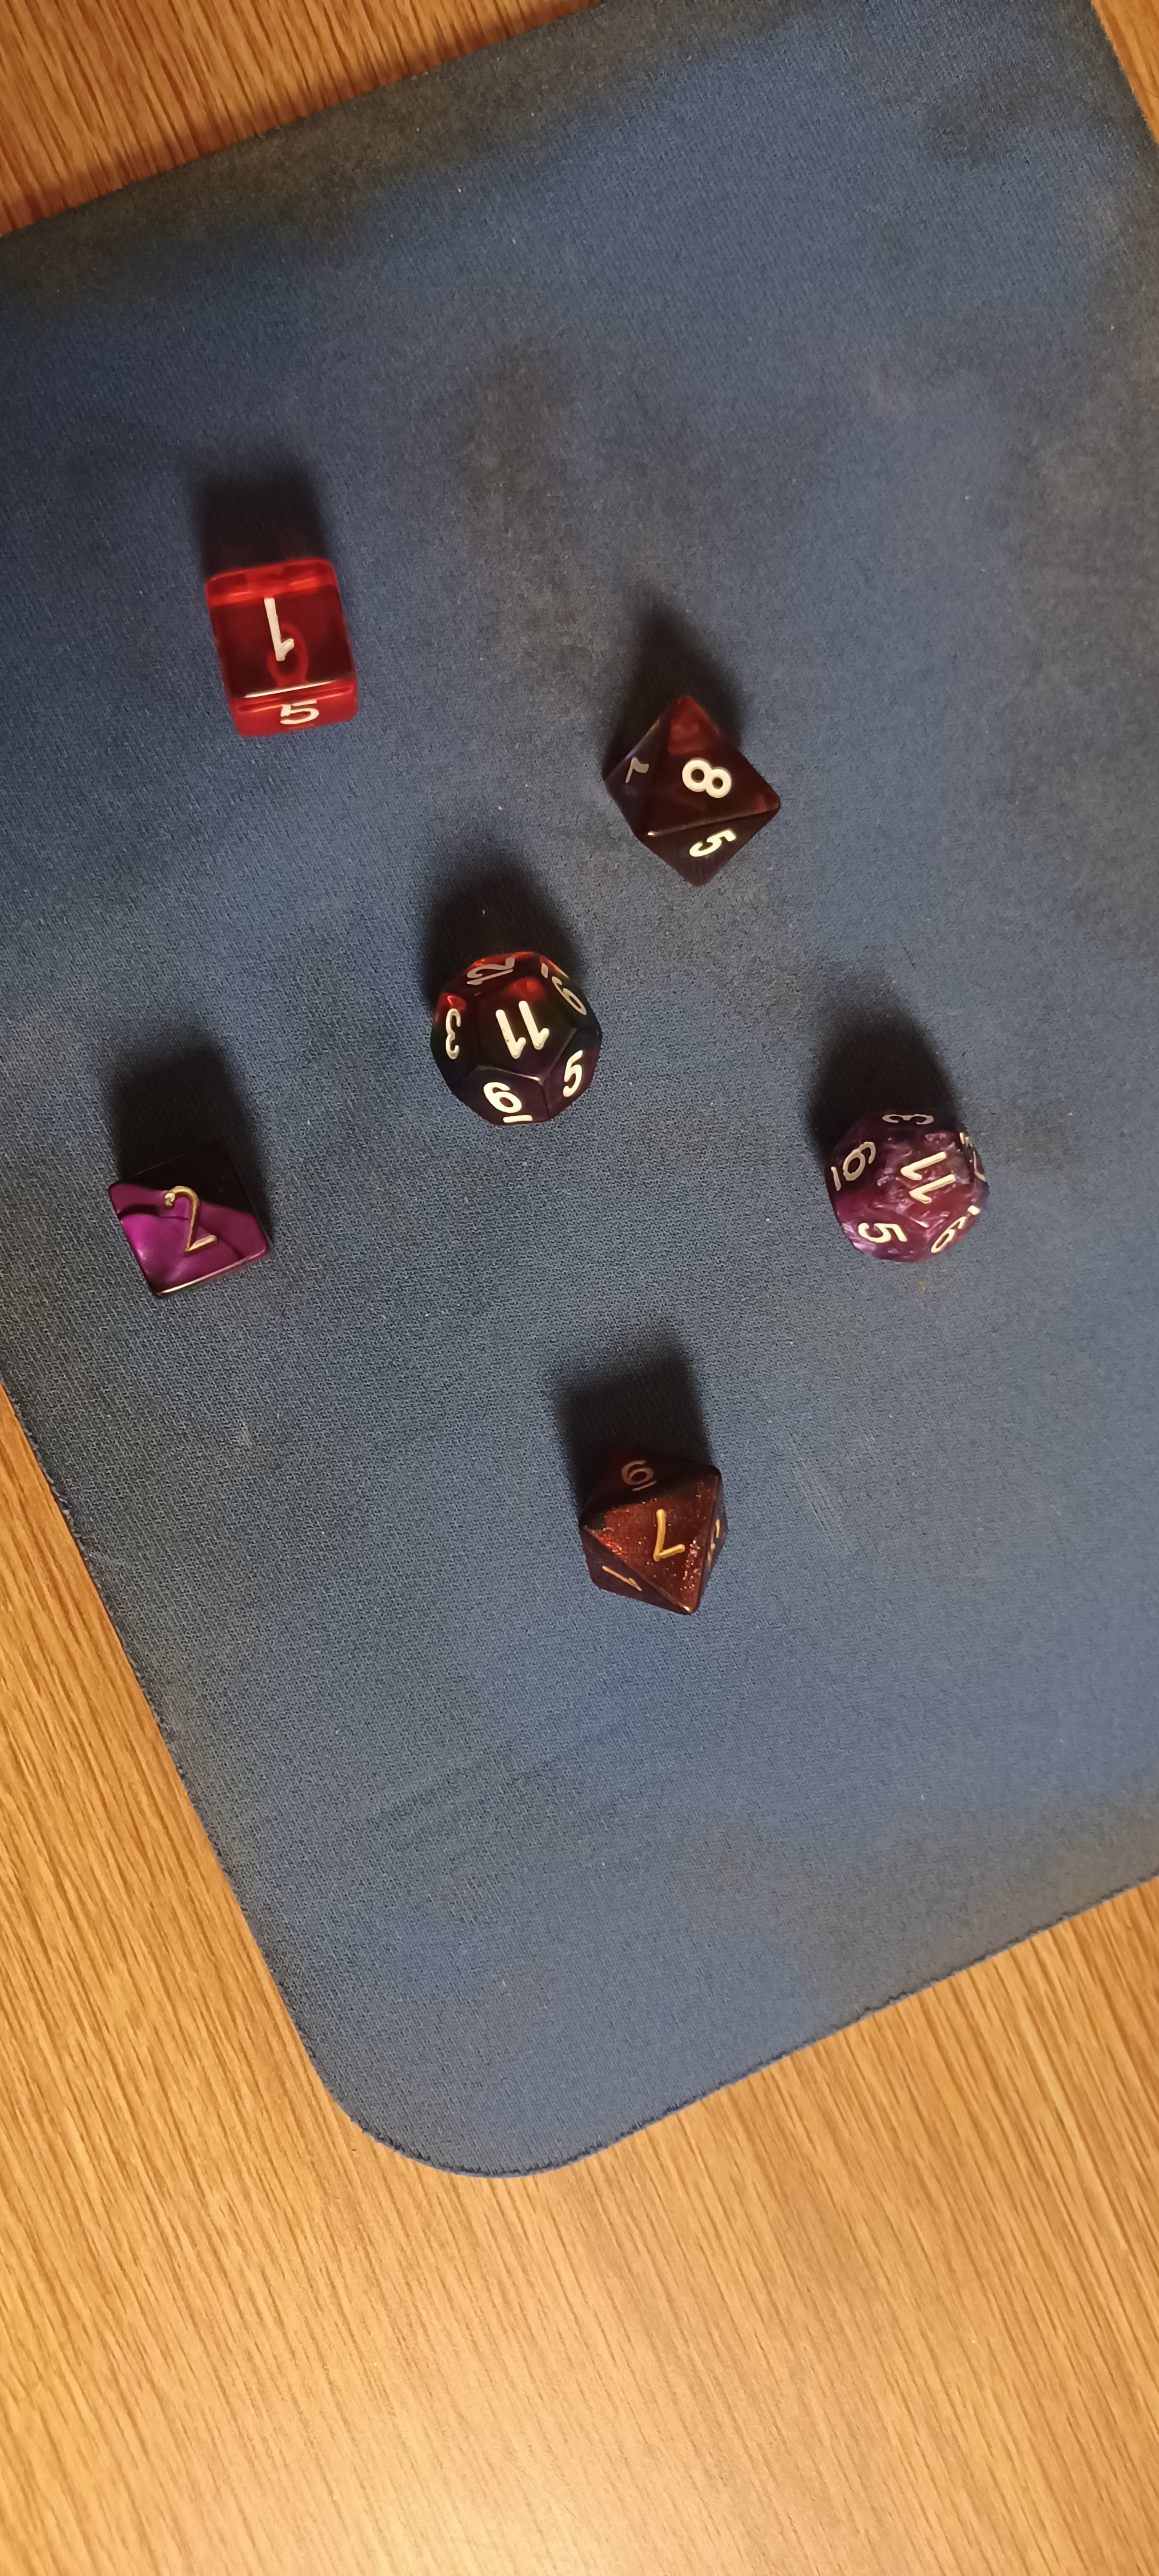eight: (581, 665, 813, 895)
eleven: (401, 938, 650, 1148), (791, 1086, 1023, 1301)
one: (172, 522, 387, 752)
seven: (527, 1436, 783, 1640)
two: (69, 1109, 300, 1336)
